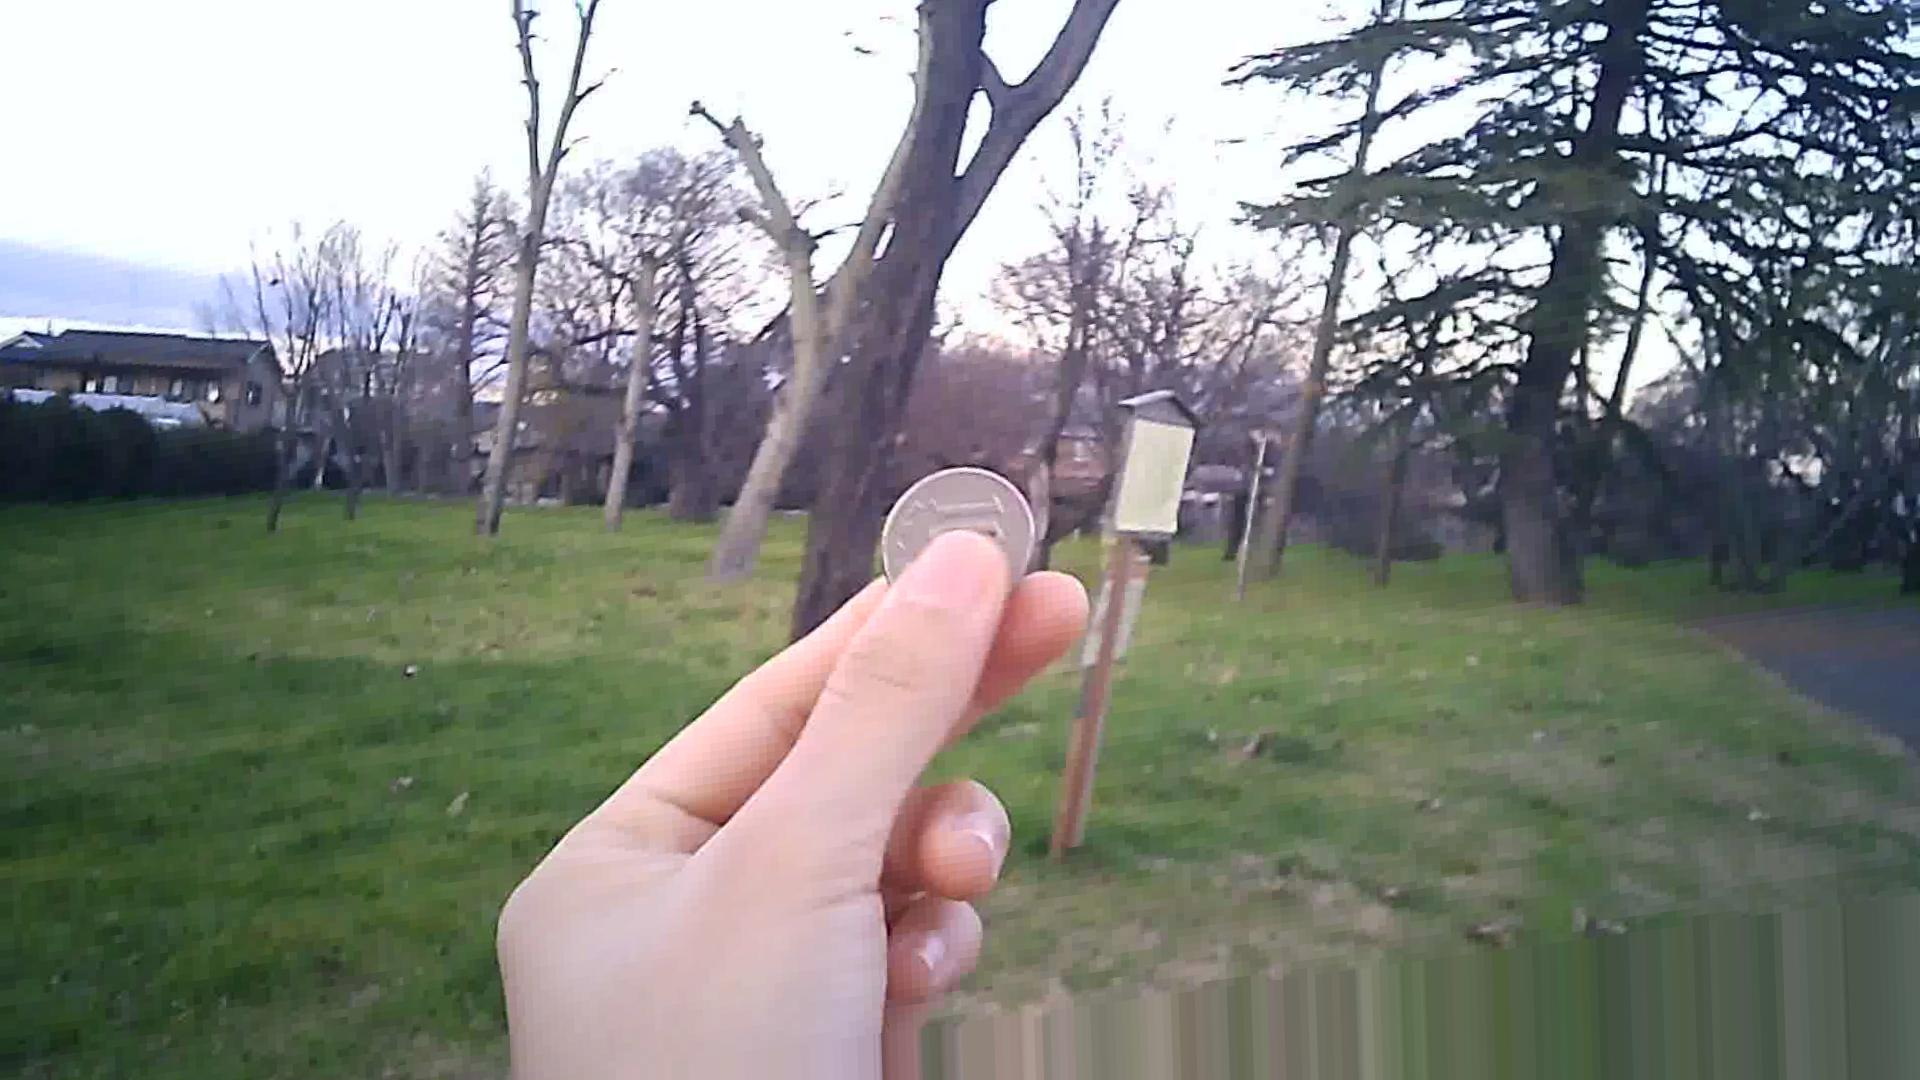100 Yen: (868, 455, 1051, 592)
